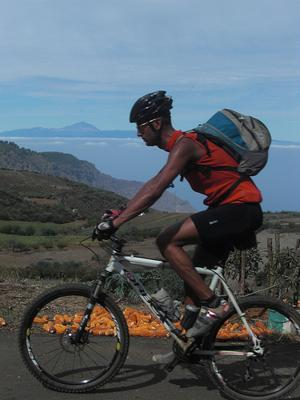person: (93, 91, 264, 367)
